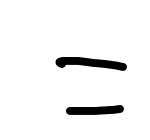eqv: (53, 54, 127, 117)
